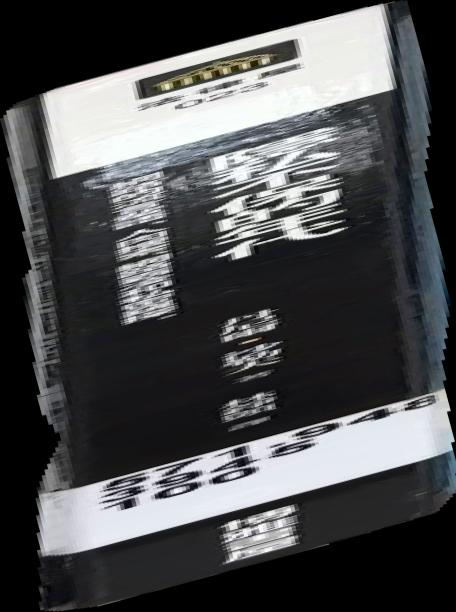book: (1, 1, 456, 612)
